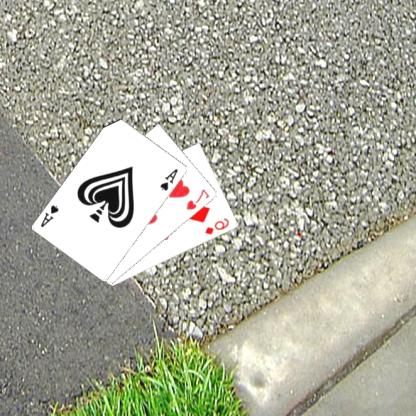6D: (204, 216, 233, 236)
7H: (185, 186, 213, 211)
AS: (40, 202, 62, 229), (160, 166, 182, 192)
